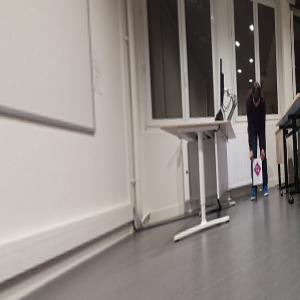search: (254, 161, 261, 177)
